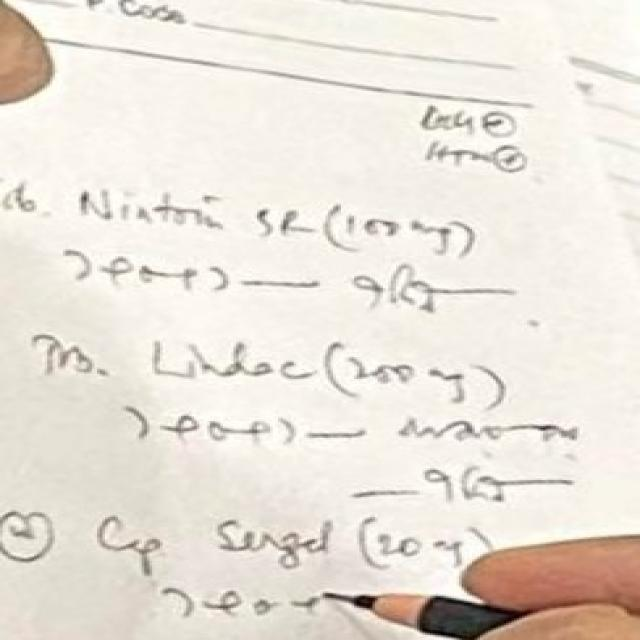Lindac: (130, 328, 308, 399)
Nitrin SR: (78, 169, 324, 247)
Sergel: (197, 506, 351, 572)
